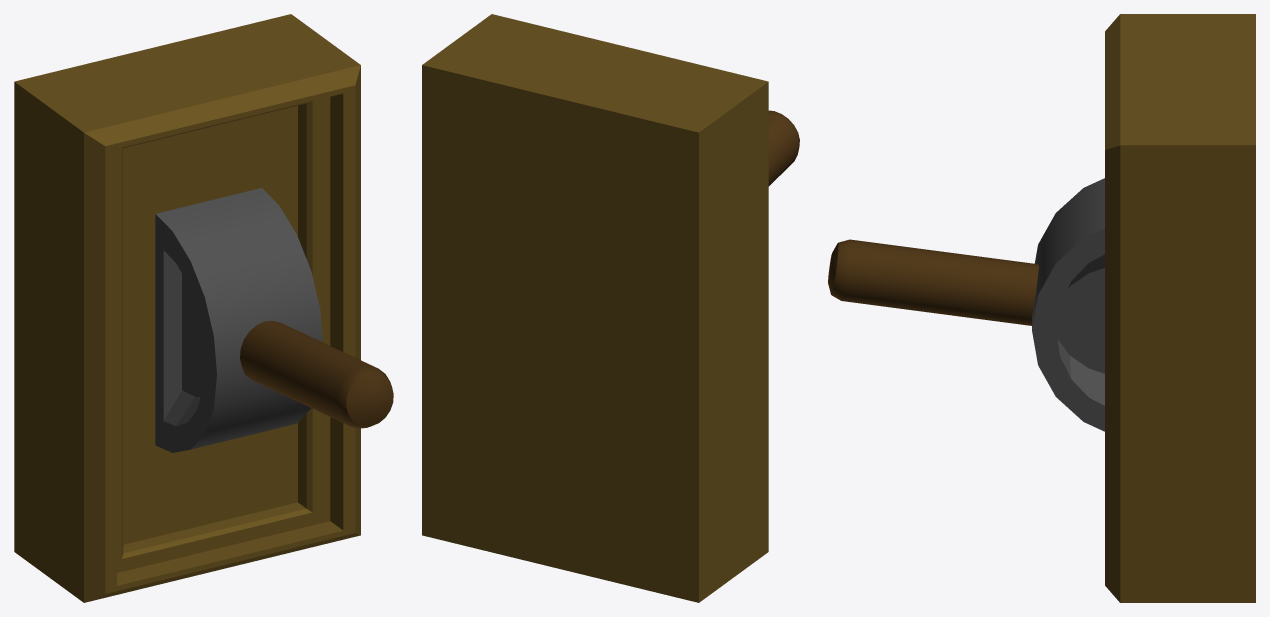
Rendered from Model_Lever.fbx.
3 renders of one model, left to right at view 1: azimuth 30°, elevation 25°; view 2: azimuth 150°, elevation 25°; view 3: azimuth 270°, elevation 25°, orthographic. The views are drawn at different scales.
Parts seen in each view (by area): view 1: Base, Mechanism, Lever; view 2: Base, Lever; view 3: Base, Mechanism, Lever.
Boxes of the visible parts, bbox=[...] form: Base: bbox=[14, 14, 360, 602]; Mechanism: bbox=[155, 188, 322, 452]; Lever: bbox=[240, 321, 393, 428]; Base: bbox=[422, 14, 768, 602]; Lever: bbox=[768, 110, 799, 186]; Base: bbox=[1105, 14, 1255, 602]; Mechanism: bbox=[1032, 178, 1104, 431]; Lever: bbox=[828, 239, 1038, 325].
Size of the model in its own units: 0.4374 by 0.7097 by 0.6016.
